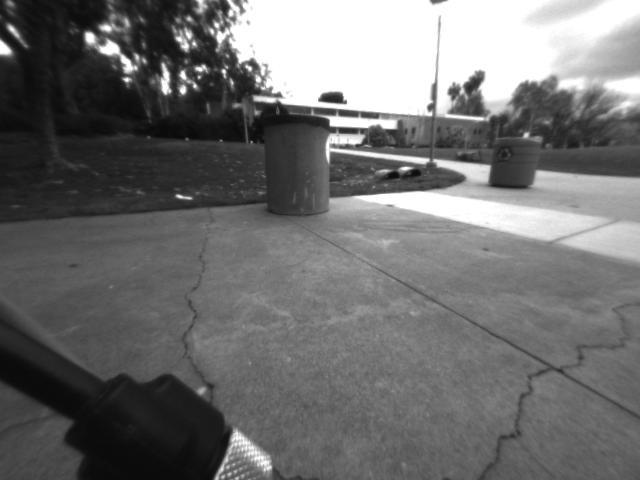trashcan: (256, 106, 343, 223), (483, 130, 546, 197)
